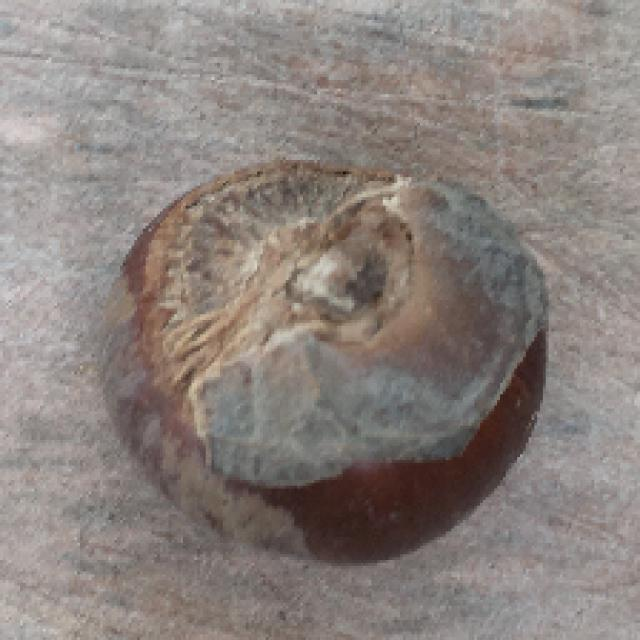damagedHazelnut: (101, 148, 567, 580)
